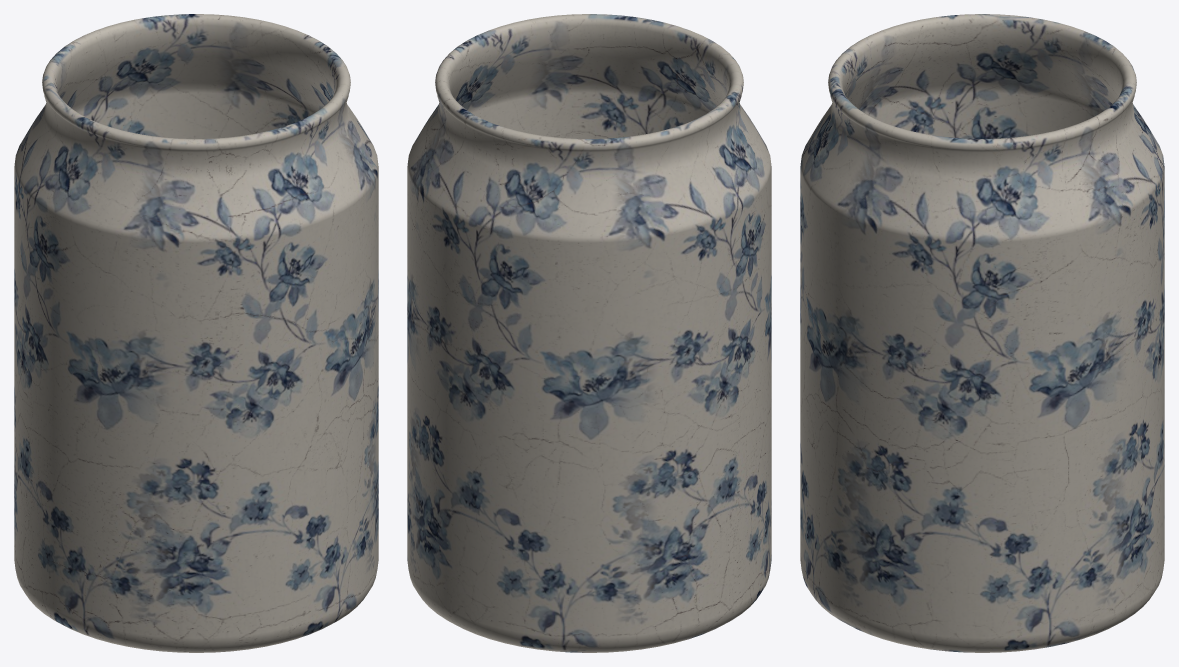
File: SM_Spoon_Jar.fbx
3 views of the same model, side by side, from view 1: azimuth 30°, elevation 25°; view 2: azimuth 150°, elevation 25°; view 3: azimuth 270°, elevation 25° (orthographic).
Visible parts, largest first — view 1: SM_Spoon_Jar_LOD0; view 2: SM_Spoon_Jar_LOD0; view 3: SM_Spoon_Jar_LOD0.
Boxes of the visible parts, <box> form: SM_Spoon_Jar_LOD0: <box>14,14,378,652</box>; SM_Spoon_Jar_LOD0: <box>407,14,771,652</box>; SM_Spoon_Jar_LOD0: <box>800,14,1164,652</box>.
Bounding box in the file's own units: 16.79 × 16.79 × 25.76.
Materials: 1 (1 with a texture image).
